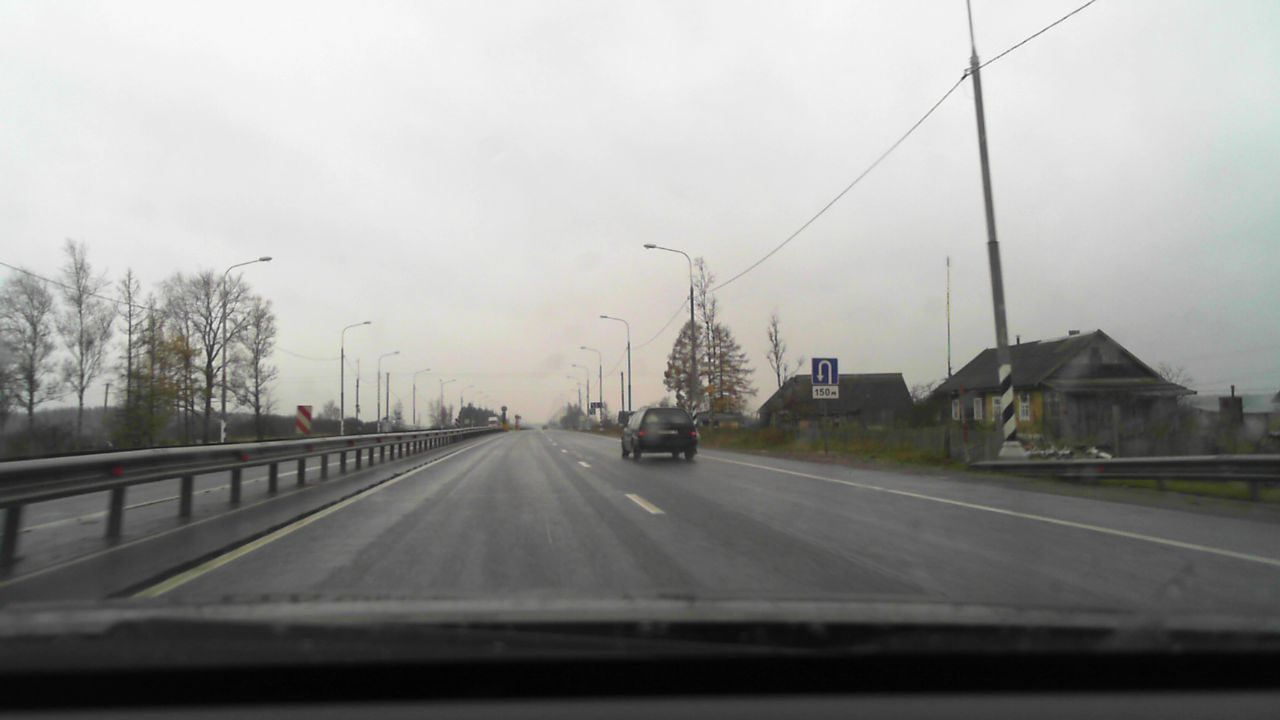U-turn: (812, 358, 838, 385)
